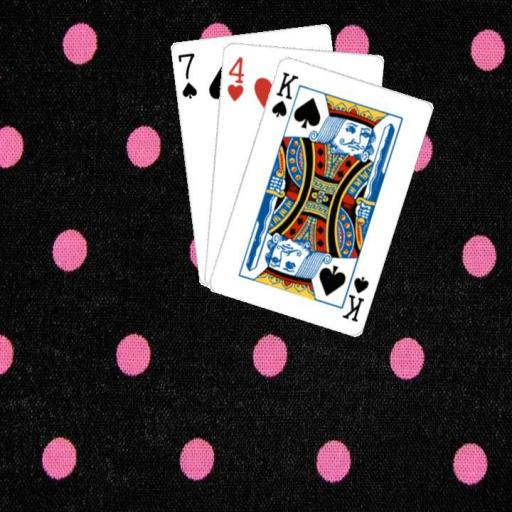4H: (224, 54, 246, 103)
7S: (175, 49, 199, 100)
KS: (337, 265, 371, 323), (268, 68, 299, 119)
